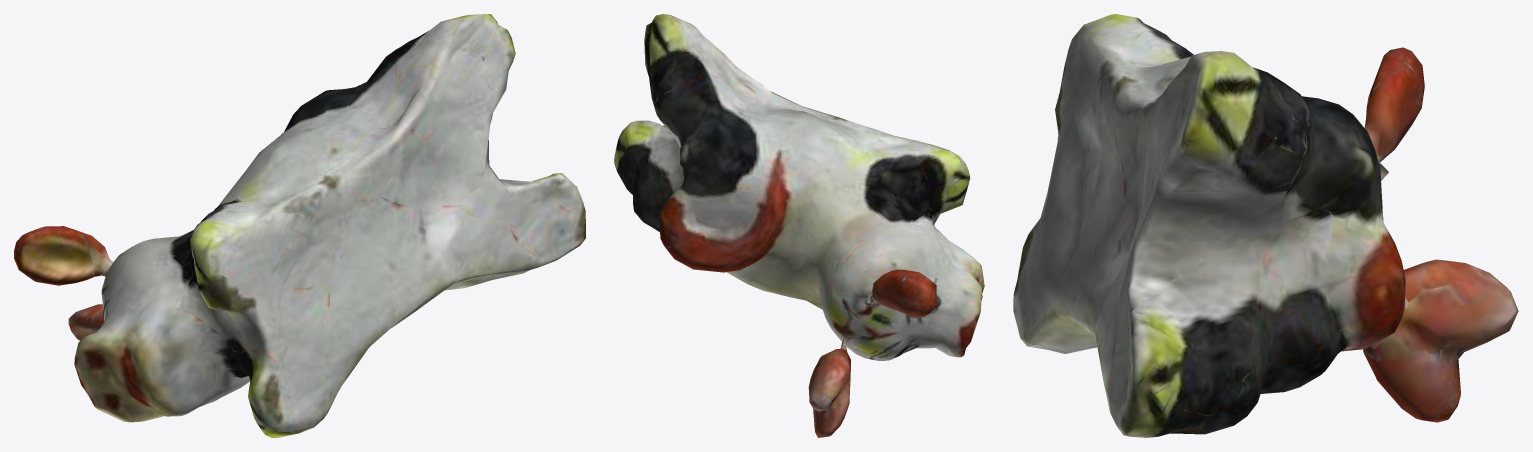
File: hall.glb
The picture shows the model from 3 angles, left to right: view 1: azimuth 30°, elevation 25°; view 2: azimuth 150°, elevation 25°; view 3: azimuth 270°, elevation 25°; orthographic projection. The views are drawn at different scales.
Size of the model in its own units: 0.9533 by 0.7326 by 0.6143.
Materials: 1 (1 with a texture image).
